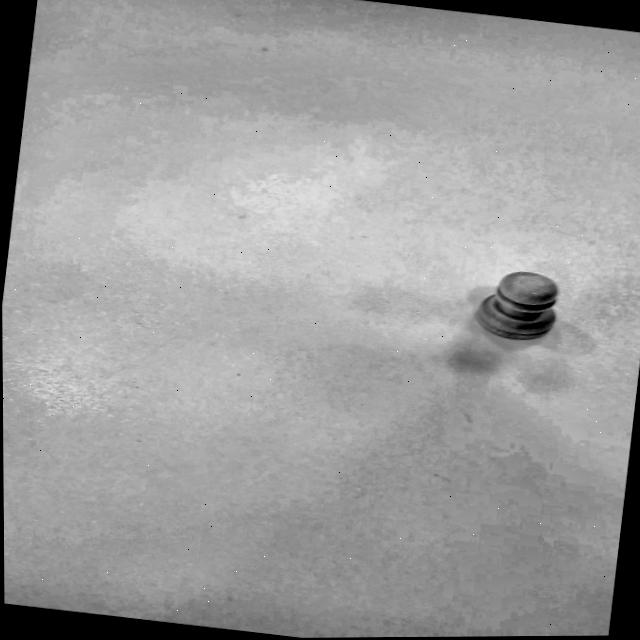white-pawn: (452, 257, 583, 374)
